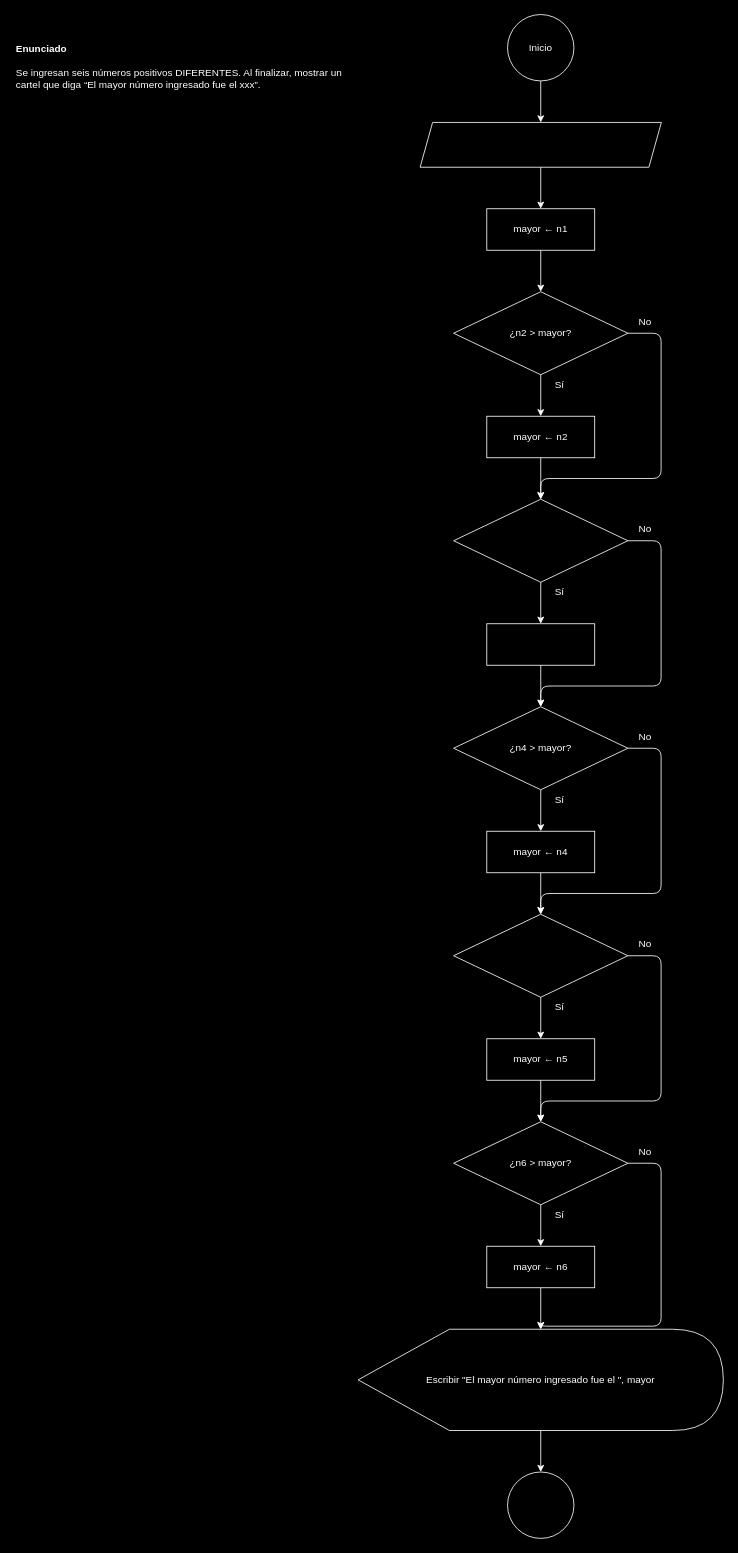
This 738x1553 diagram has some shape labels left out. The centre of each missing label's shape, as x and y in pixels:
"Fin" belongs at (x=540, y=1504).
"Leer n1, n2, n3, n4, n5, n6" belongs at (x=540, y=144).
"mayor ← n3" belongs at (x=540, y=644).
"¿n3 > mayor?" belongs at (x=540, y=540).
"¿n5 > mayor?" belongs at (x=540, y=955).
